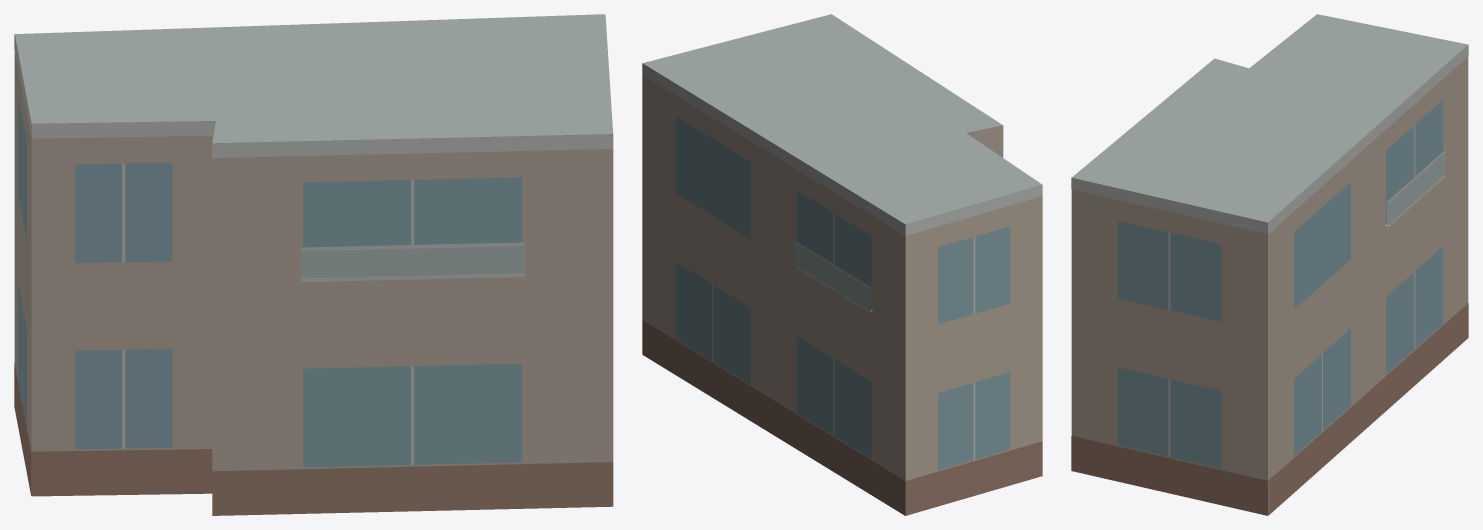
File: survey-upis-32819818.glb
3 views of the same model, side by side, from view 1: azimuth 30°, elevation 25°; view 2: azimuth 150°, elevation 25°; view 3: azimuth 270°, elevation 25° (orthographic). The views are drawn at different scales.
Parts seen in each view (by area): view 1: survey-upis-32819818.tmp; view 2: survey-upis-32819818.tmp; view 3: survey-upis-32819818.tmp.
Part boxes in pixels (box(x1,y1,x2,y2)): survey-upis-32819818.tmp: box(14, 14, 613, 515); survey-upis-32819818.tmp: box(642, 14, 1042, 515); survey-upis-32819818.tmp: box(1071, 14, 1468, 515).
Size of the model in its own units: 9.31 by 6.1 by 7.49.
